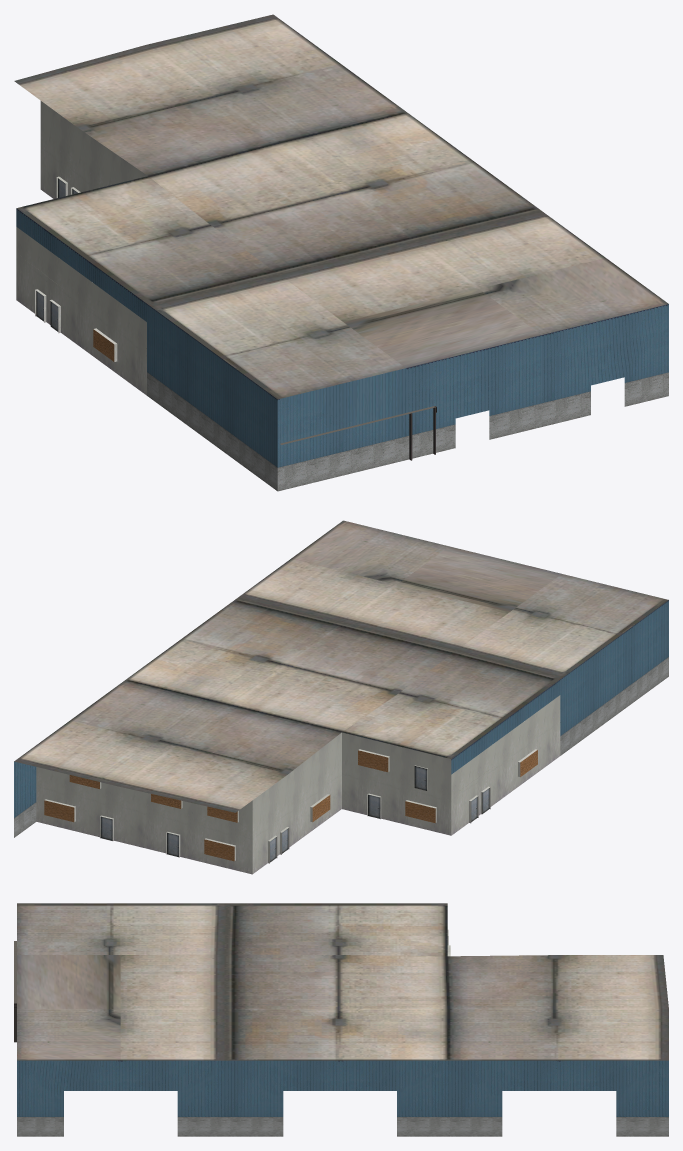
File: vgnabartoirinter.obj
3 renders of one model, top to bottom at view 1: azimuth 30°, elevation 25°; view 2: azimuth 150°, elevation 25°; view 3: azimuth 270°, elevation 25°, orthographic. The views are drawn at different scales.
Parts seen in each view (by area): view 1: vgnabartoirinter; view 2: vgnabartoirinter; view 3: vgnabartoirinter.
Boxes of the visible parts, bbox=[...] form: vgnabartoirinter: bbox=[14, 14, 668, 491]; vgnabartoirinter: bbox=[14, 520, 668, 874]; vgnabartoirinter: bbox=[14, 903, 668, 1136].
Bounding box in the file's own units: 39.52 × 9.24 × 69.
Materials: 13 (13 with a texture image).
